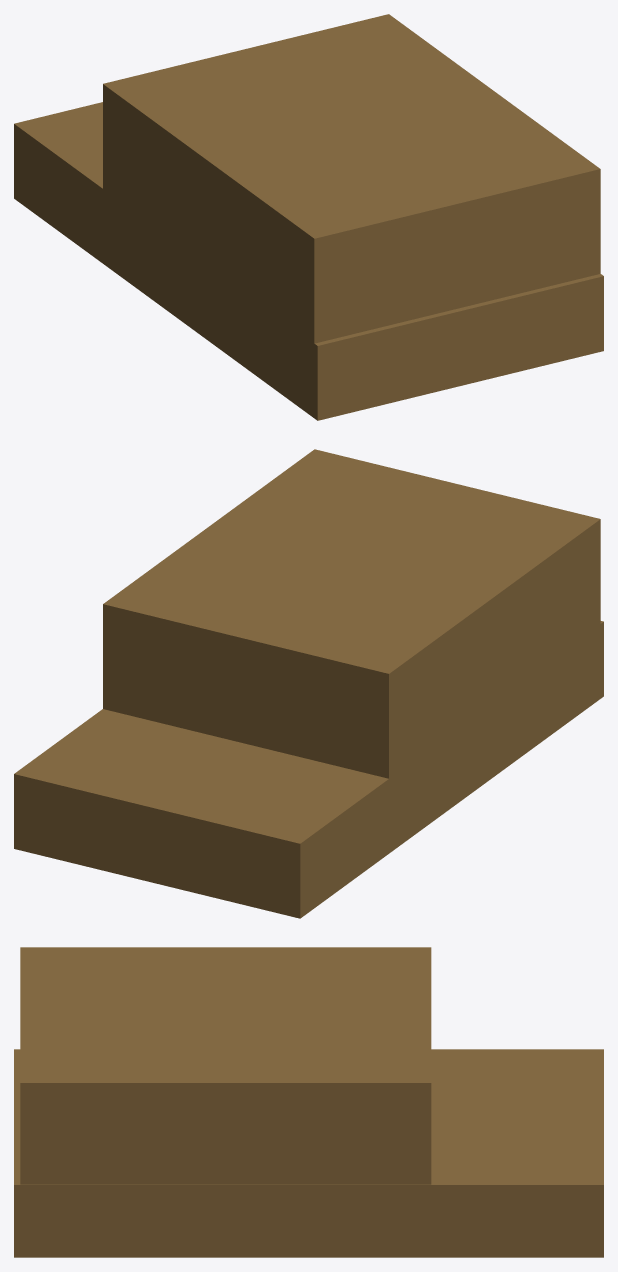
The model's file is cocheMarronCubo.glb.
3 renders of one model, top to bottom at view 1: azimuth 30°, elevation 25°; view 2: azimuth 150°, elevation 25°; view 3: azimuth 270°, elevation 25°, orthographic. The views are drawn at different scales.
Parts seen in each view (by area): view 1: Mesh_Mesh_head_geo.001_lambert2SG.001; view 2: Mesh_Mesh_head_geo.001_lambert2SG.001; view 3: Mesh_Mesh_head_geo.001_lambert2SG.001.
Boxes of the visible parts, box(x1,y1,x2,y2) form: Mesh_Mesh_head_geo.001_lambert2SG.001: box(14, 14, 603, 420); Mesh_Mesh_head_geo.001_lambert2SG.001: box(14, 449, 603, 918); Mesh_Mesh_head_geo.001_lambert2SG.001: box(14, 947, 603, 1257).
Size of the model in its own units: 0.08 by 0.048 by 0.147.
